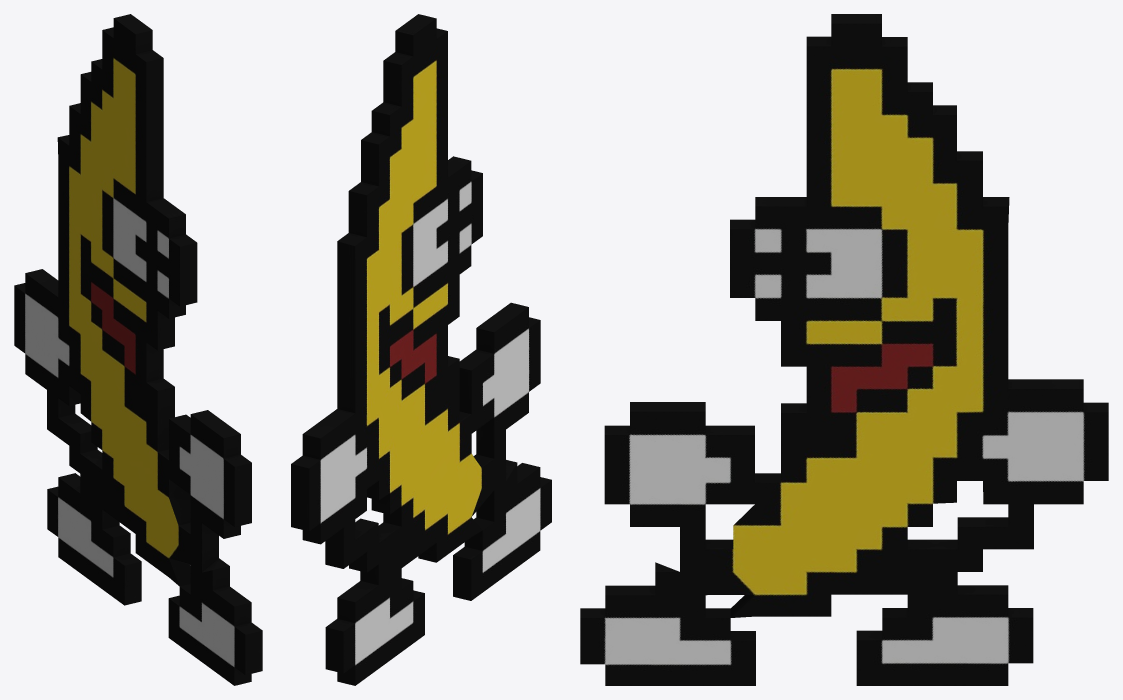
File: Banana.glb
The picture shows the model from 3 angles, left to right: view 1: azimuth 30°, elevation 25°; view 2: azimuth 150°, elevation 25°; view 3: azimuth 270°, elevation 25°; orthographic projection. The views are drawn at different scales.
Visible parts, largest first — view 1: Banana; view 2: Banana; view 3: Banana.
Part boxes in pixels (x1=…): Banana: x1=14, y1=14, x2=262, y2=685; Banana: x1=291, y1=14, x2=551, y2=685; Banana: x1=580, y1=14, x2=1108, y2=685.
Size of the model in its own units: 0.0313 by 1 by 0.7269.
Materials: 1 (1 with a texture image).
